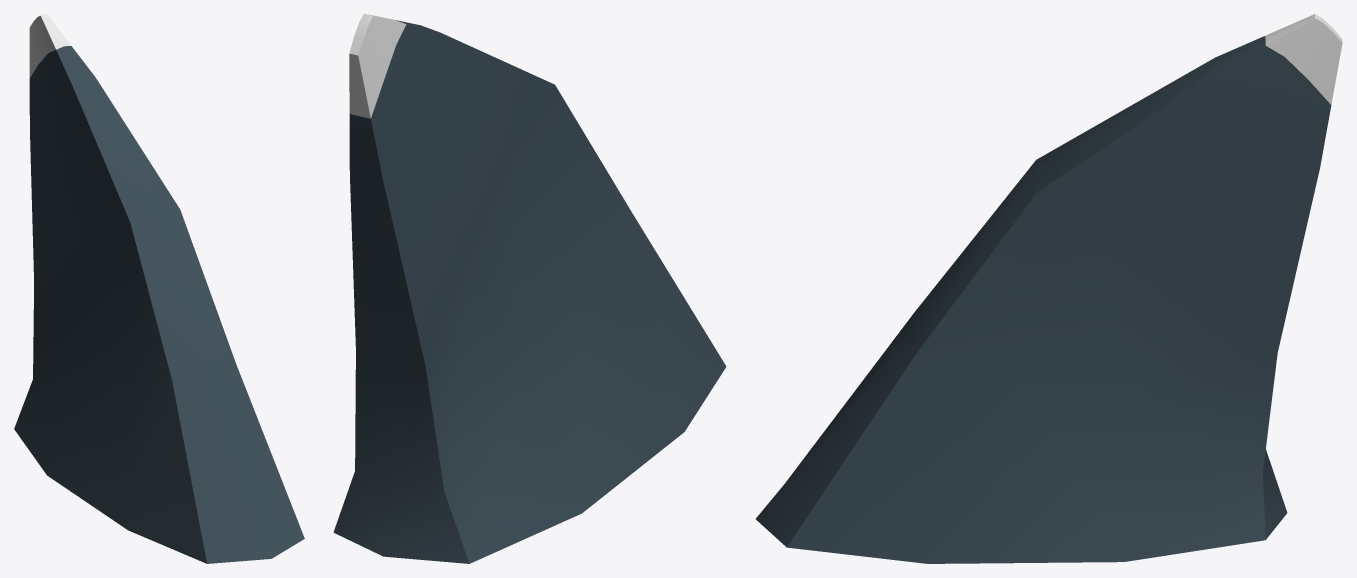
The model's file is SharkFin.fbx.
3 views of the same model, side by side, from view 1: azimuth 30°, elevation 25°; view 2: azimuth 150°, elevation 25°; view 3: azimuth 270°, elevation 25° (orthographic). The views are drawn at different scales.
Visible parts, largest first — view 1: SharkFin; view 2: SharkFin; view 3: SharkFin.
Boxes of the visible parts, x1,y1,x2,y2 form: SharkFin: [14, 14, 304, 563]; SharkFin: [333, 14, 726, 563]; SharkFin: [755, 14, 1342, 563].
Size of the model in its own units: 103 by 245 by 263.
